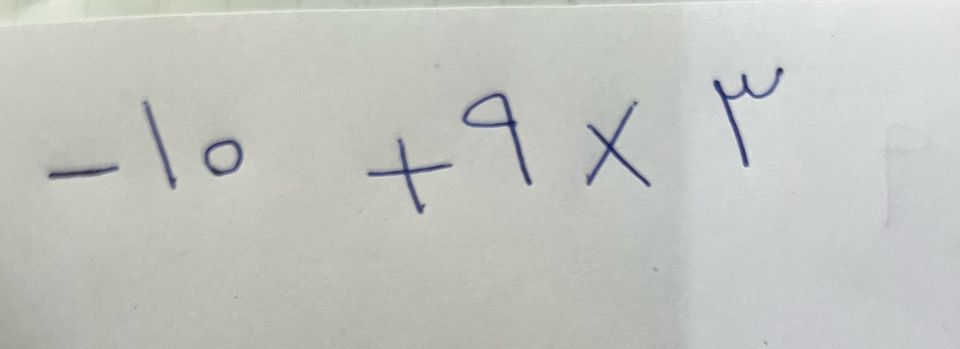character: (714, 69, 782, 167), (463, 93, 531, 187), (587, 97, 649, 194), (368, 140, 447, 207), (142, 99, 175, 190), (203, 139, 244, 184), (46, 164, 125, 176)
